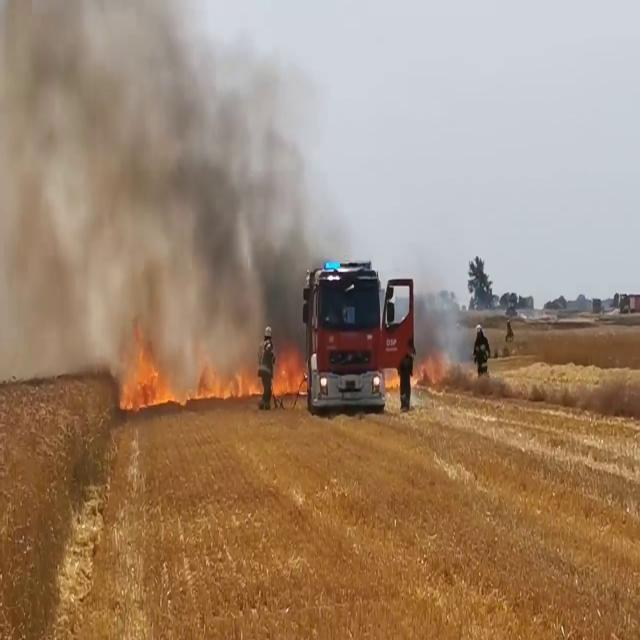Fire: (118, 344, 194, 408), (271, 341, 309, 402), (206, 361, 260, 403), (412, 344, 454, 390)
Smoke: (0, 0, 313, 379), (410, 268, 470, 378)
